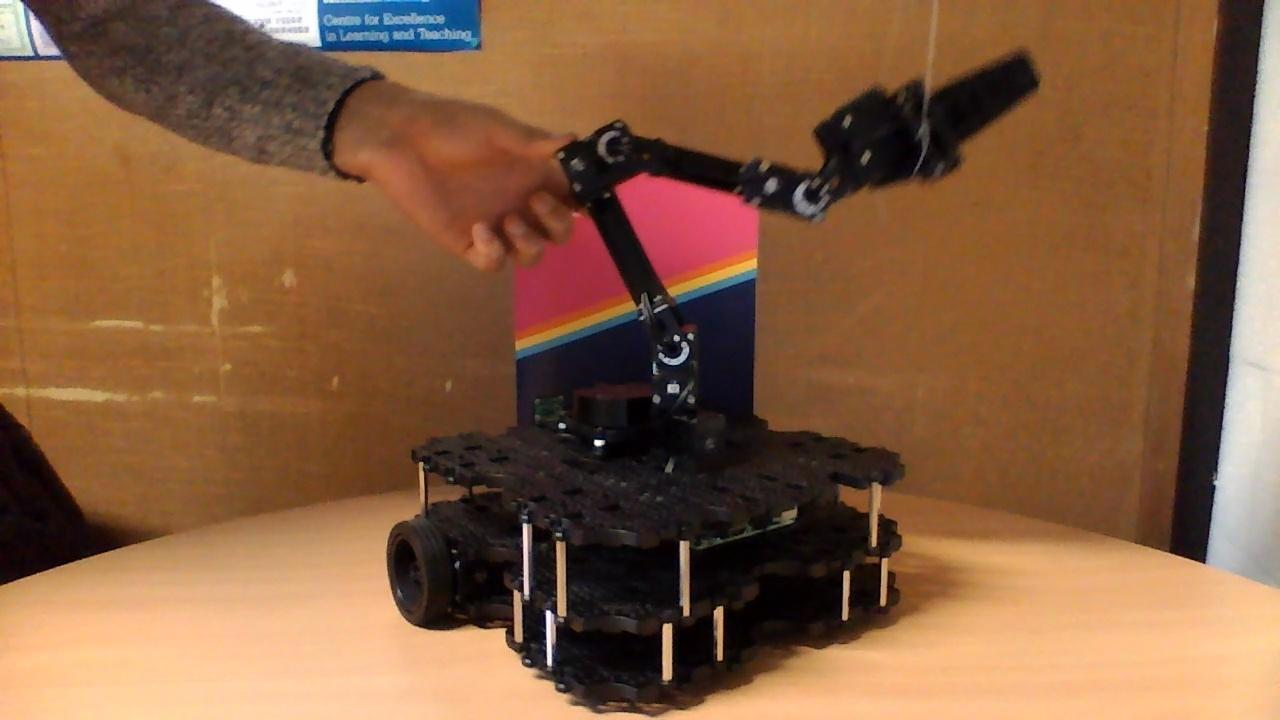Arm: (557, 120, 706, 378)
Hand: (802, 45, 1044, 224)
Wrist: (595, 118, 830, 230)
base: (384, 380, 909, 704)
